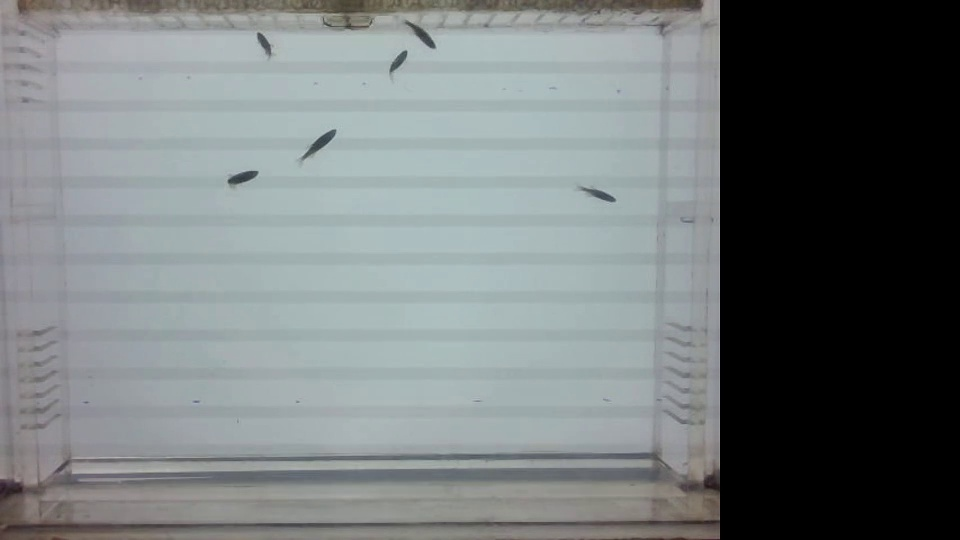fish: (293, 121, 340, 170), (569, 180, 620, 209), (400, 22, 438, 54), (384, 44, 412, 85), (220, 166, 264, 188), (248, 32, 280, 60)
